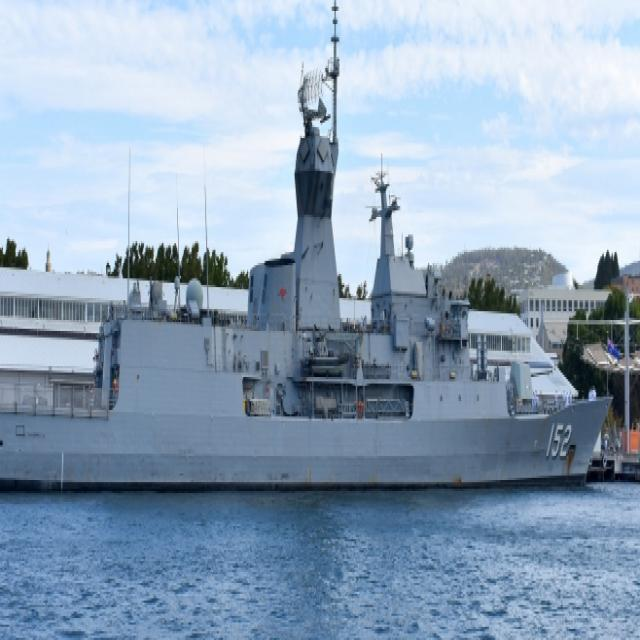Fragata: (1, 1, 616, 501)
